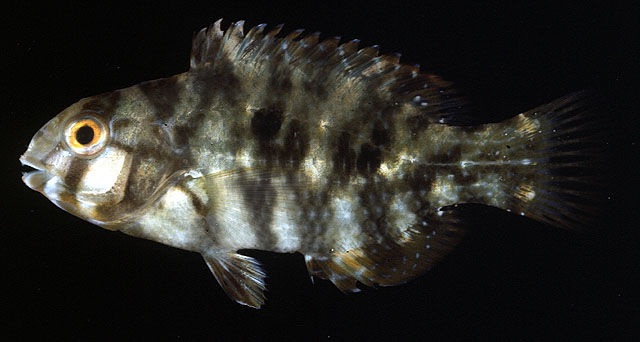fish: (19, 19, 588, 308)
